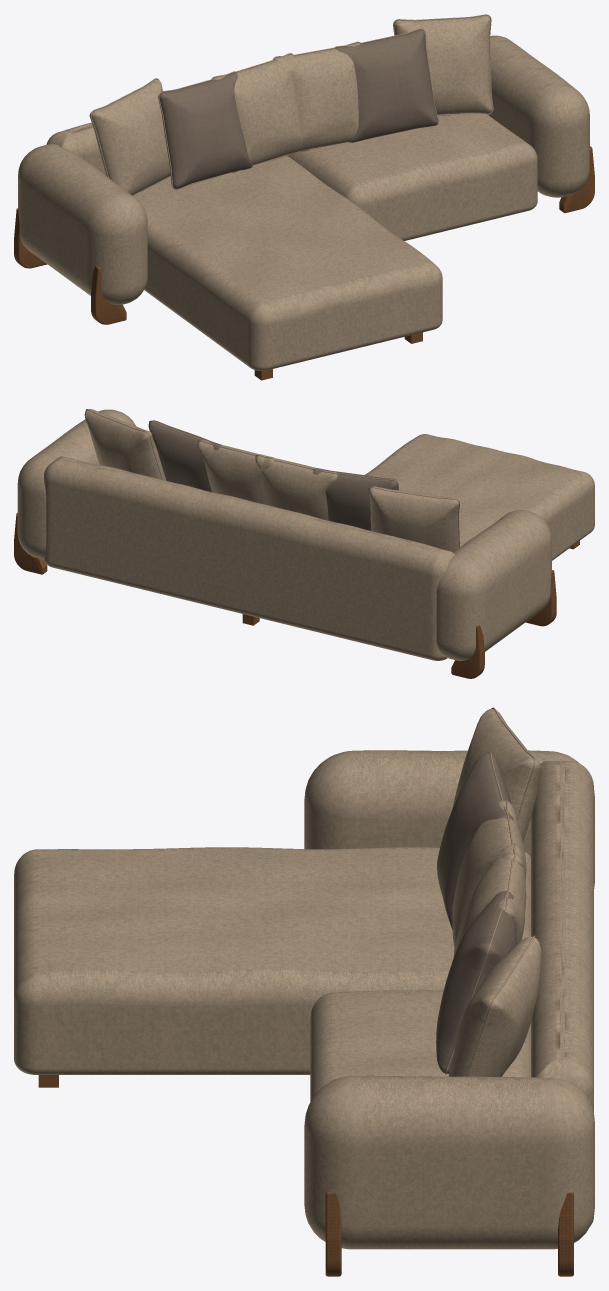
The model's file is chaise.glb.
3 renders of one model, top to bottom at view 1: azimuth 30°, elevation 25°; view 2: azimuth 150°, elevation 25°; view 3: azimuth 270°, elevation 25°, orthographic. The views are drawn at different scales.
Parts seen in each view (by area): view 1: fabric, pillows (×2), accent, legs; view 2: fabric, pillows (×2), accent, legs; view 3: fabric, pillows (×2), accent, legs.
Boxes of the visible parts, x1=… form: fabric: x1=18, y1=35, x2=589, y2=370; pillows (×2): x1=89, y1=14, x2=493, y2=195; accent: x1=158, y1=29, x2=438, y2=189; legs: x1=14, y1=146, x2=594, y2=380; fabric: x1=17, y1=409, x2=594, y2=660; pillows (×2): x1=84, y1=409, x2=459, y2=552; accent: x1=148, y1=420, x2=397, y2=530; legs: x1=14, y1=513, x2=579, y2=678; fabric: x1=14, y1=750, x2=594, y2=1249; pillows (×2): x1=445, y1=707, x2=541, y2=1076; accent: x1=436, y1=753, x2=516, y2=1073; legs: x1=38, y1=1075, x2=573, y2=1276.
Bounding box in the file's own units: 3 × 0.9634 × 2.
4 materials, 4 textured.
